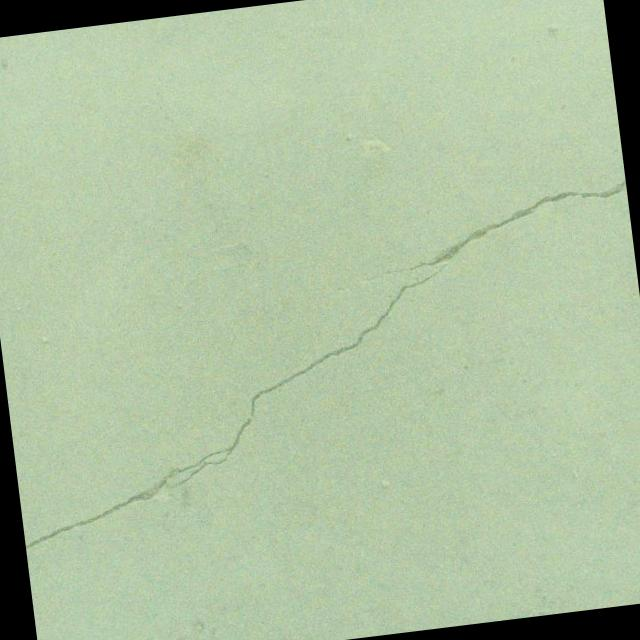crack: (0, 178, 640, 549)
